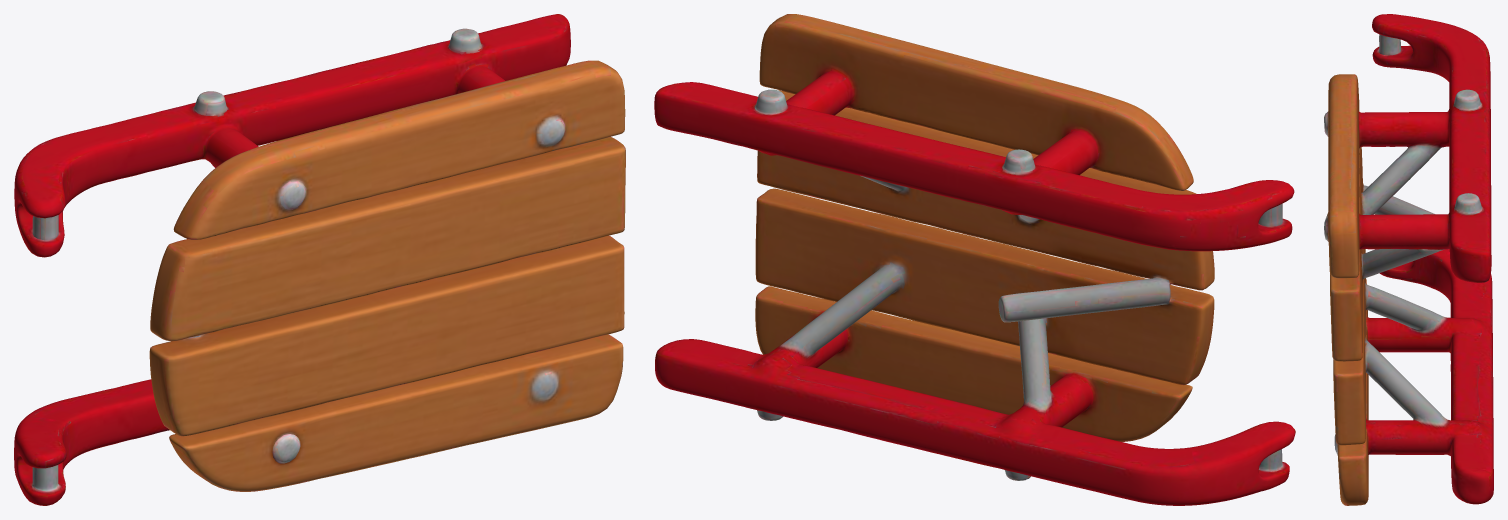
The model's file is n-sled.glb.
3 renders of one model, left to right at view 1: azimuth 30°, elevation 25°; view 2: azimuth 150°, elevation 25°; view 3: azimuth 270°, elevation 25°, orthographic. The views are drawn at different scales.
Visible parts, largest first — view 1: ChristmasSled(Clone); view 2: ChristmasSled(Clone); view 3: ChristmasSled(Clone).
Part boxes in pixels (x1,y1,x2,y2): ChristmasSled(Clone): (14,14,625,505); ChristmasSled(Clone): (654,14,1295,505); ChristmasSled(Clone): (1324,14,1493,505).
Size of the model in its own units: 0.9801 by 0.5555 by 0.2904.
Materials: 1 (1 with a texture image).
